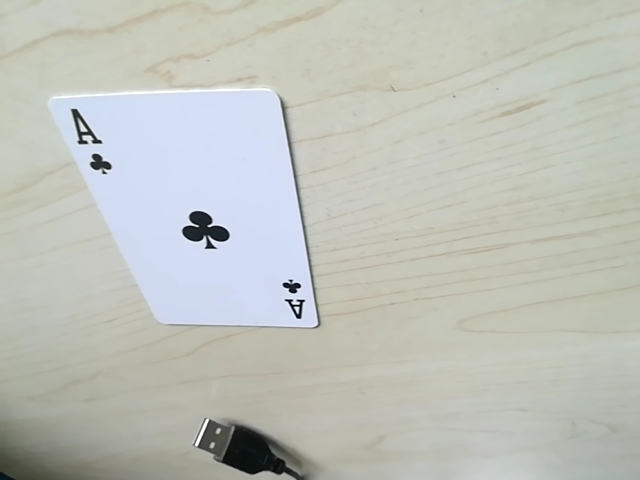mh a: (67, 106, 115, 178), (275, 273, 310, 324)
